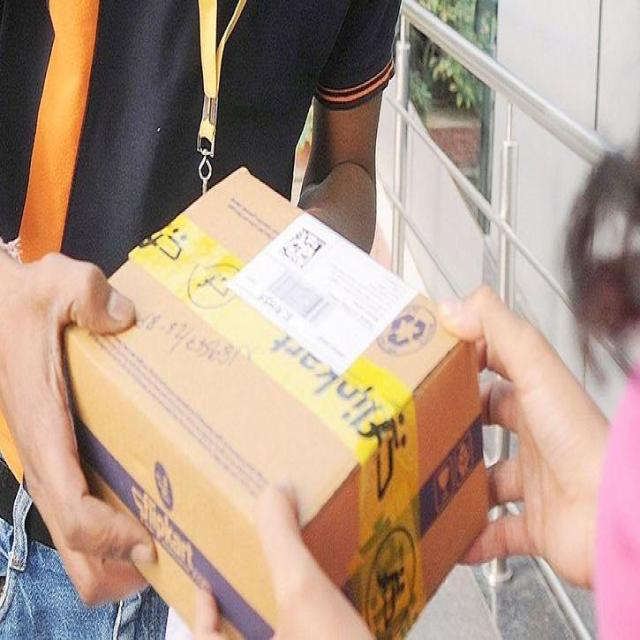box: (64, 166, 488, 637)
